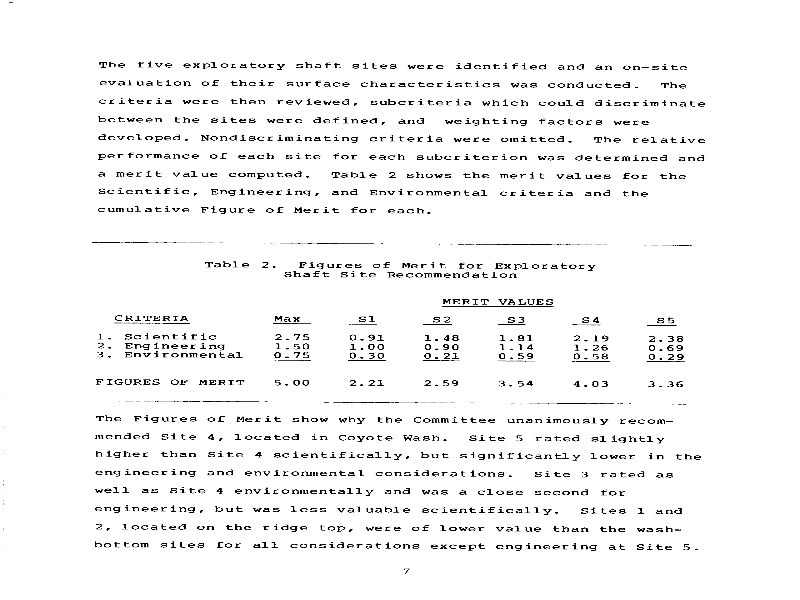table: (91, 284, 699, 407)
